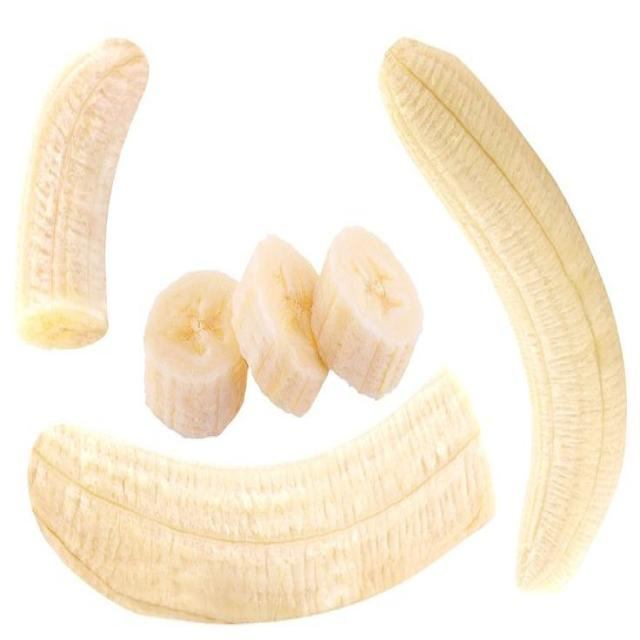banana: (380, 40, 626, 589), (29, 375, 493, 621), (16, 40, 147, 347), (312, 228, 422, 398), (232, 237, 327, 415), (145, 272, 246, 437)
